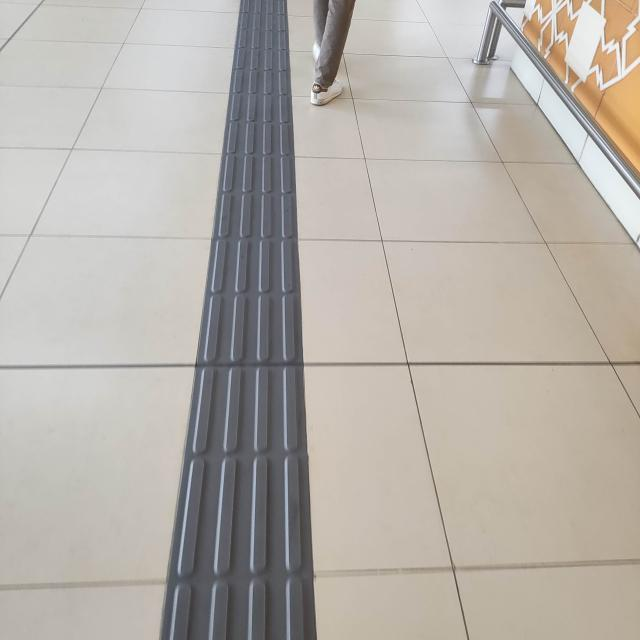lurus: (167, 7, 308, 640)
